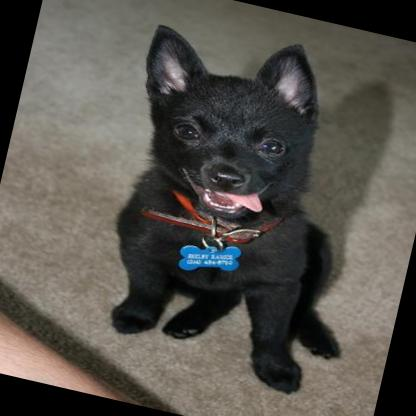schipperke: (77, 8, 404, 400)
